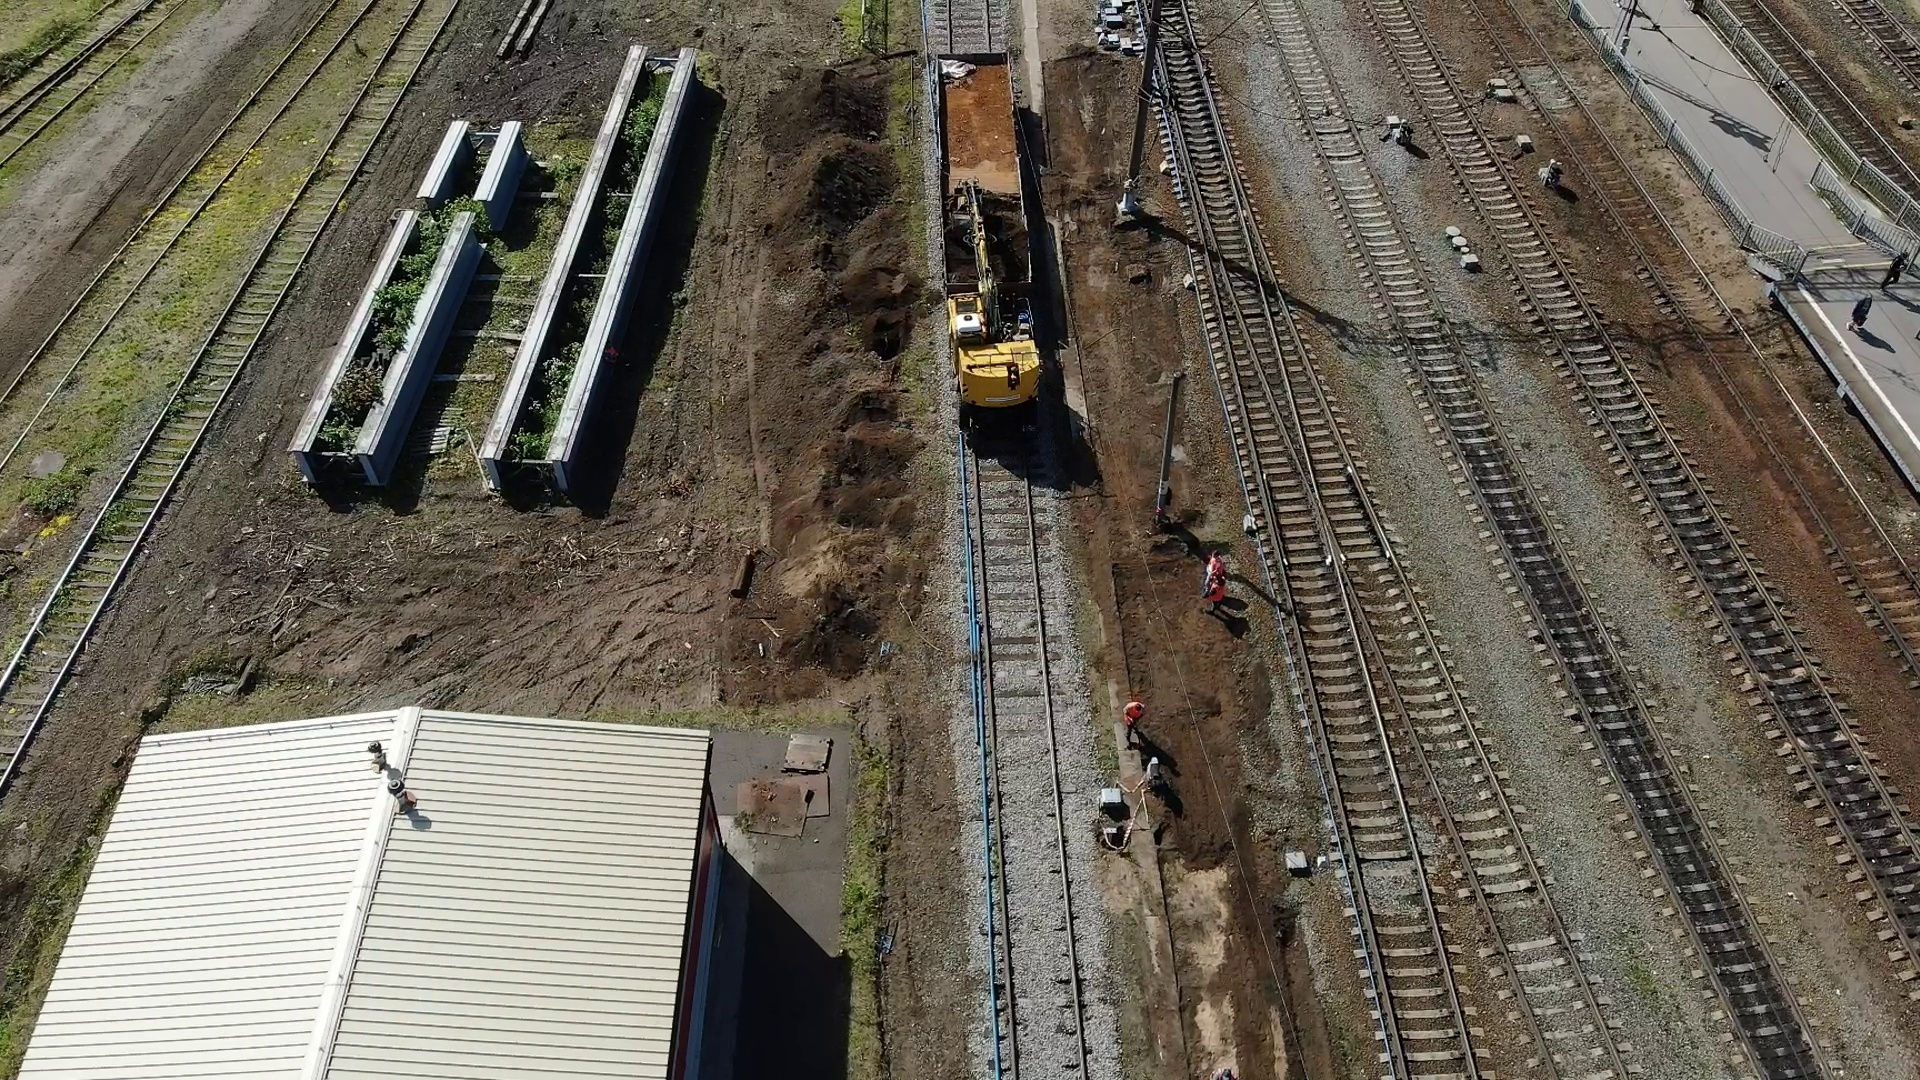kjtv: (942, 273, 1051, 426)
